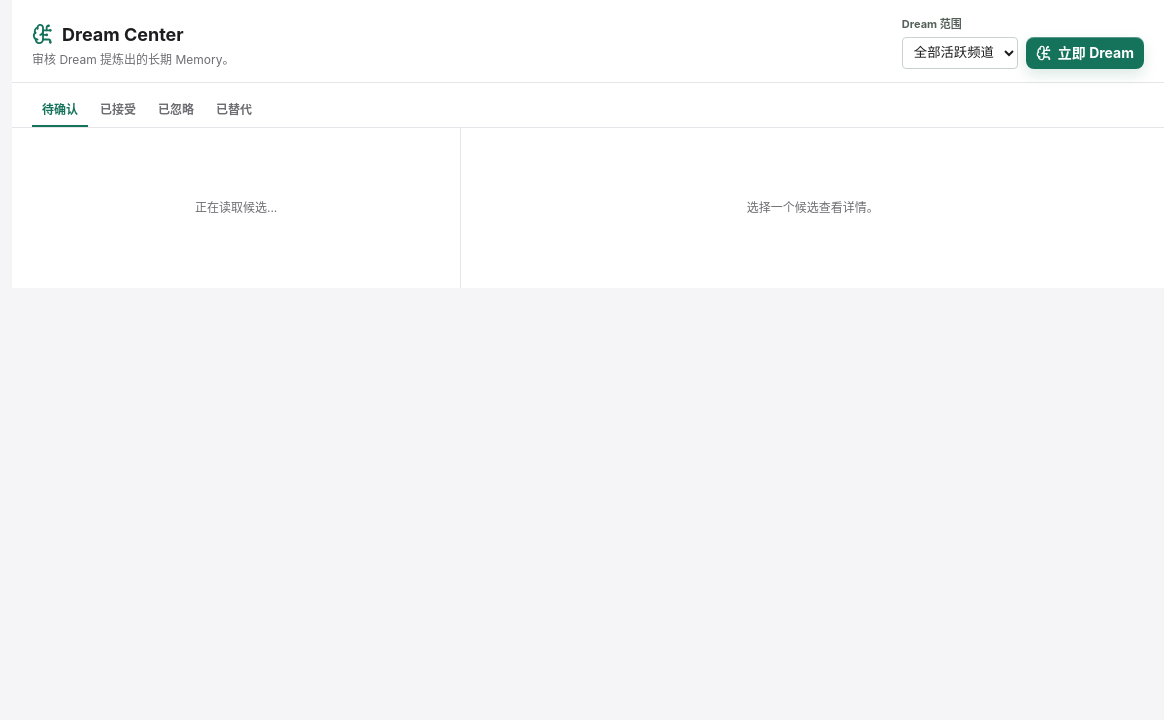
Scenario: DreamCenter › clears the running notice after the Dream poll times out
Click the button "立即 Dream".
click(1085, 52)  # box [1026,36,1144,68]
Wait 30000 ms
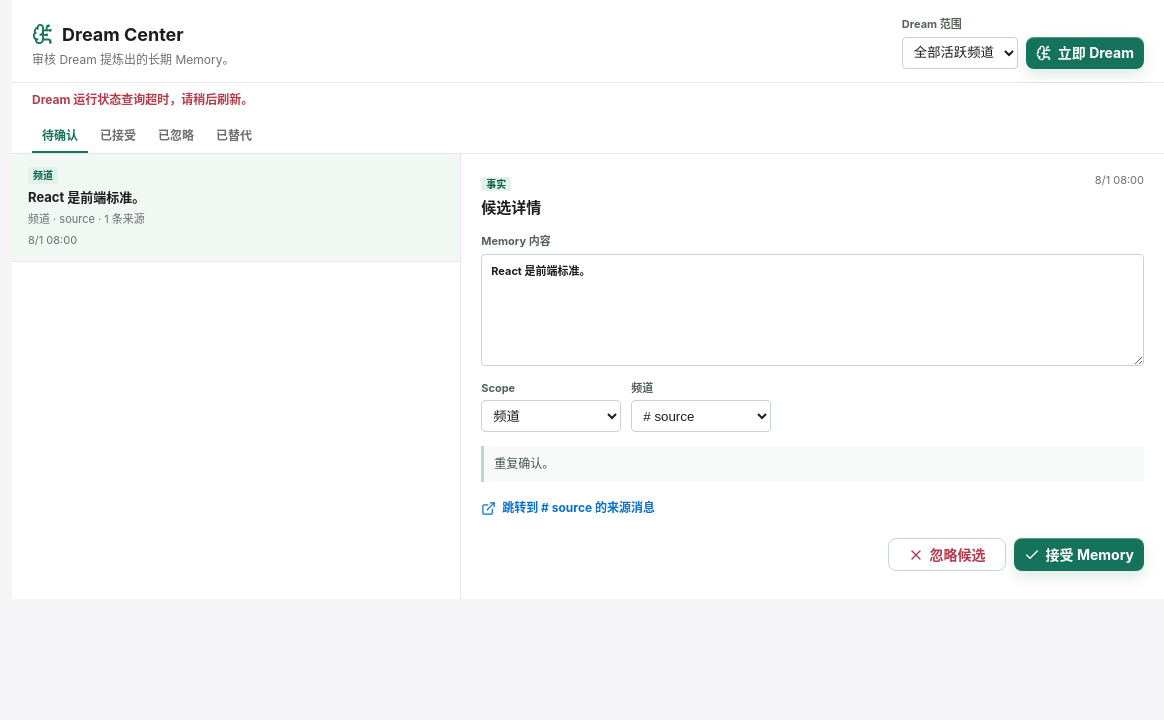
Expected: the dropdown labelled "Dream 范围" is enabled, [902,36,1018,68]
Expected: the message reads "Dream 运行状态查询超时，请稍后刷新。", [32,92,253,106]
Expected: the number of messages is 1, [32,92,253,106]
